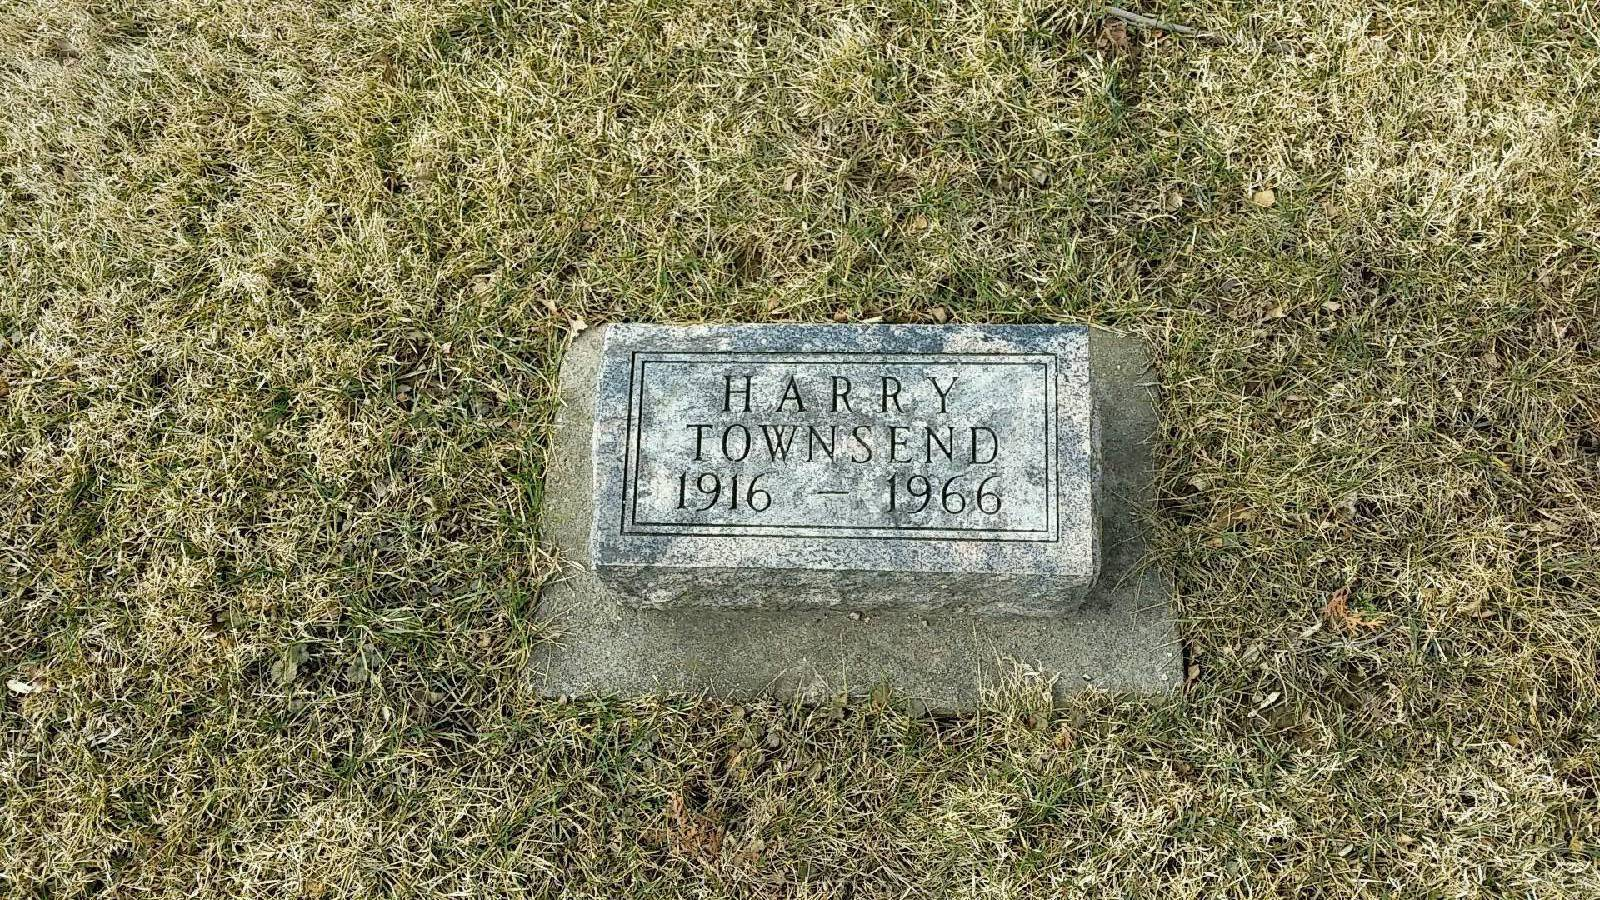flat: (540, 307, 1192, 703)
